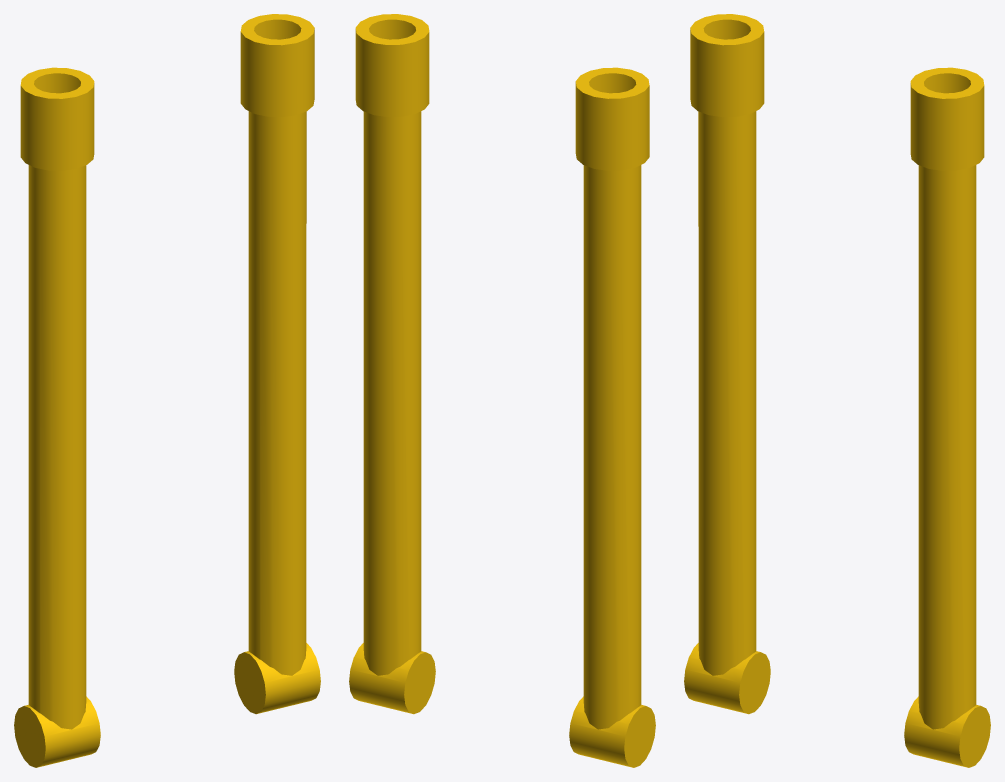
Rendered from ExMainHydralicsCylinder.obj.
3 renders of one model, left to right at view 1: azimuth 30°, elevation 25°; view 2: azimuth 150°, elevation 25°; view 3: azimuth 330°, elevation 25°, orthographic.
Parts seen in each view (by area): view 1: Mesh2 Group4 G_13_1 Group2 Group1 Model, Mesh1 Group3 Group2 Group1 Model; view 2: Mesh2 Group4 G_13_1 Group2 Group1 Model, Mesh1 Group3 Group2 Group1 Model; view 3: Mesh1 Group3 Group2 Group1 Model, Mesh2 Group4 G_13_1 Group2 Group1 Model.
Part boxes in pixels (<box>): Mesh2 Group4 G_13_1 Group2 Group1 Model: <box>14,67,100,767</box>; Mesh1 Group3 Group2 Group1 Model: <box>234,14,320,714</box>; Mesh2 Group4 G_13_1 Group2 Group1 Model: <box>569,67,655,767</box>; Mesh1 Group3 Group2 Group1 Model: <box>349,14,435,714</box>; Mesh1 Group3 Group2 Group1 Model: <box>904,67,990,767</box>; Mesh2 Group4 G_13_1 Group2 Group1 Model: <box>684,14,770,714</box>.
Bounding box in the file's own units: 0.6206 × 1.41 × 0.1406.
